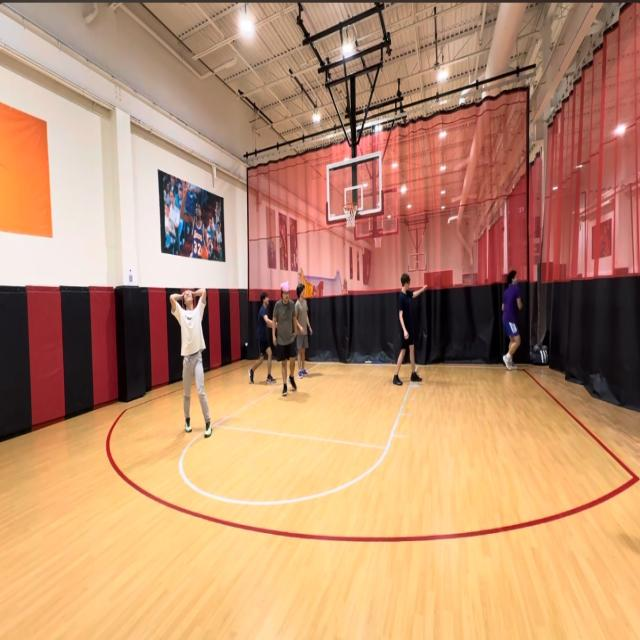Basketball Rim: (342, 202, 358, 227)
Player: (168, 286, 213, 438), (392, 273, 427, 385), (272, 281, 298, 396), (248, 290, 276, 384), (501, 269, 523, 372), (296, 283, 313, 379)
